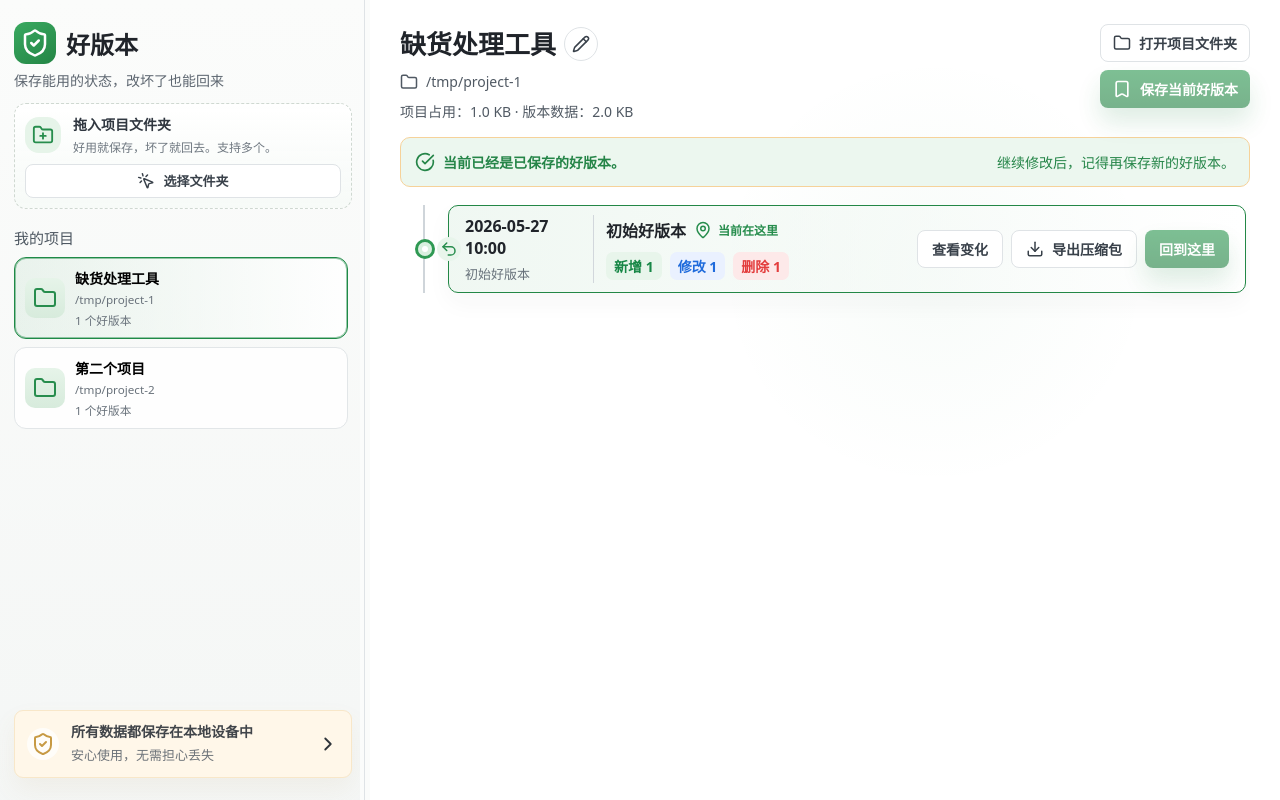
Test case: App › 变化抽屉可通过蒙版关闭且不展示说明文案
expect the text "当前已经是已保存的好版本。" is shown: met, box [415,152,625,172]
expect the button named "修改项目显示名" is shown: met, box [564,27,598,61]
Click the button "查看变化": (960, 249) [917,230,1003,268]
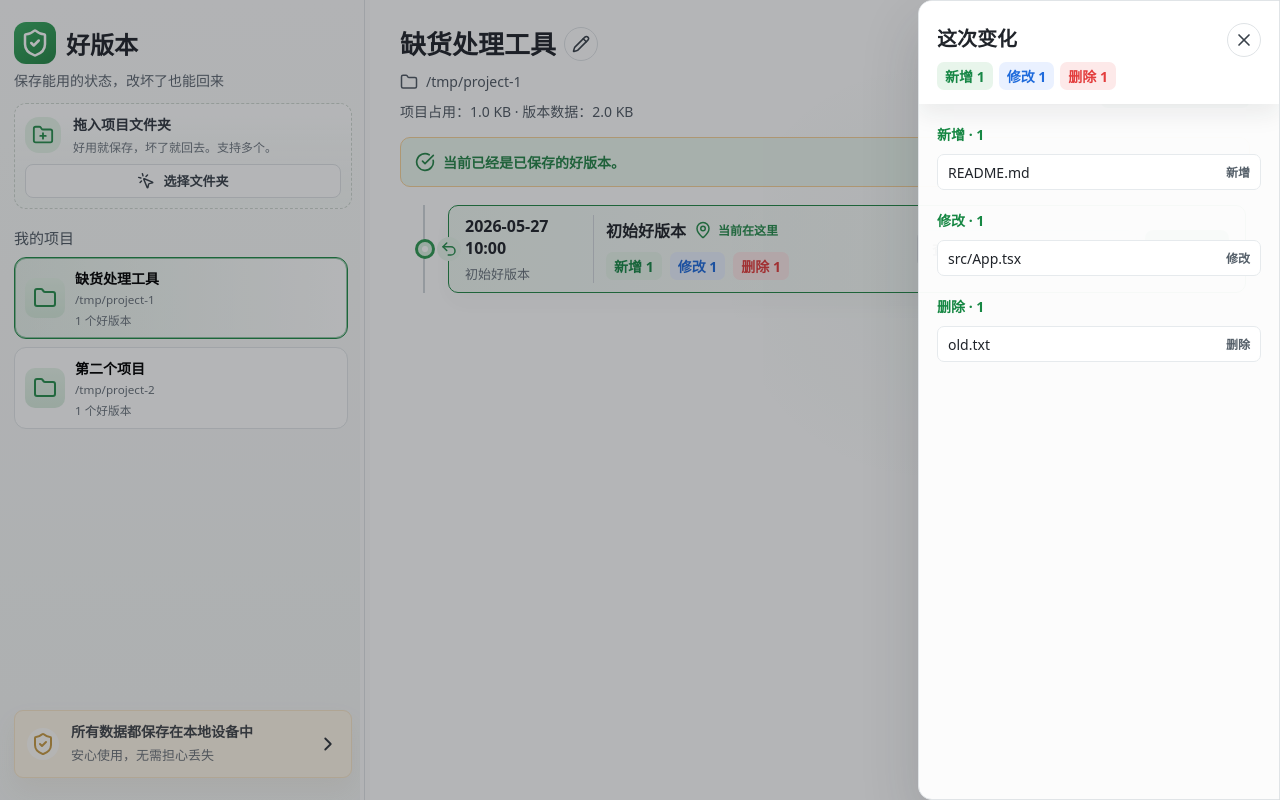
expect the heading "这次变化" is shown: met, box [937,25,1017,52]
expect the text "README.md" is shown: met, box [948,162,1030,182]
expect the text "src/App.tsx" is shown: met, box [948,248,1021,268]
Click the button named "关闭变化抽屉": (640, 400) [0,0,1279,799]
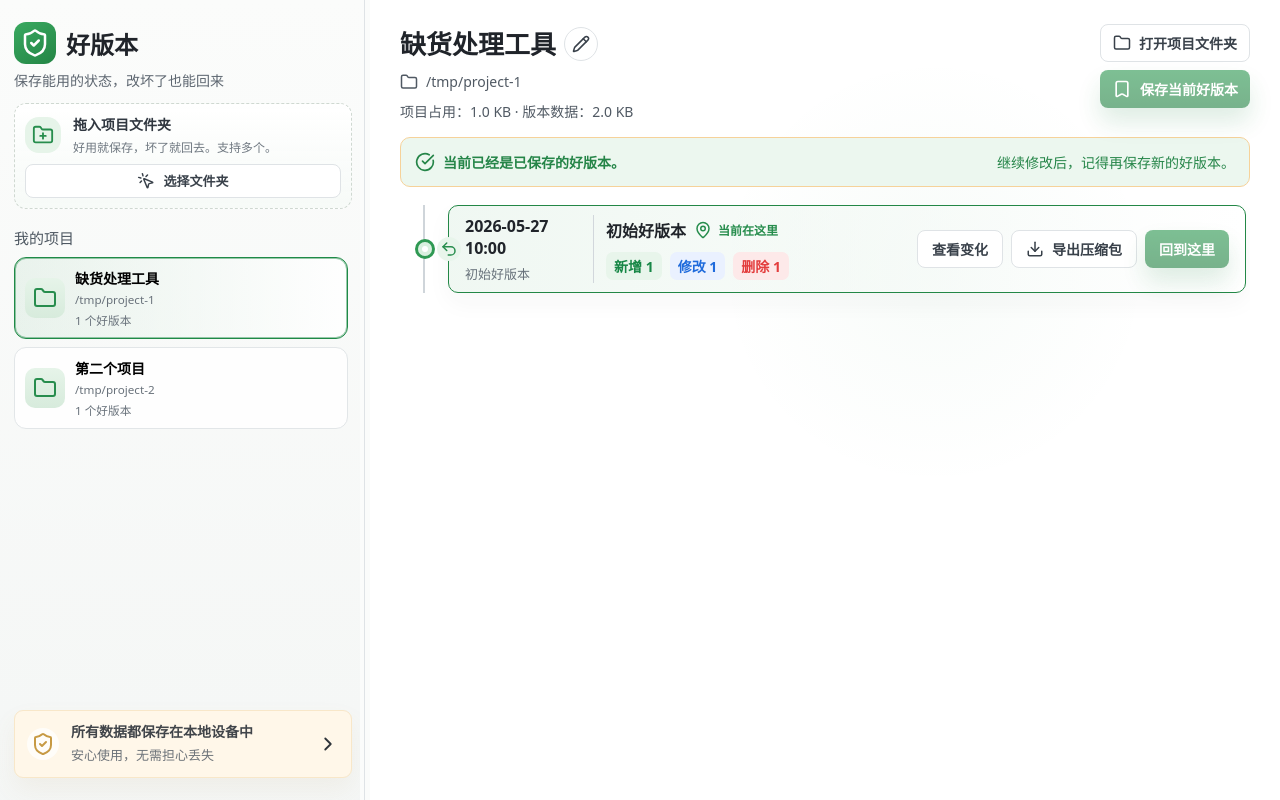
expect the heading "这次变化" is gone: met
